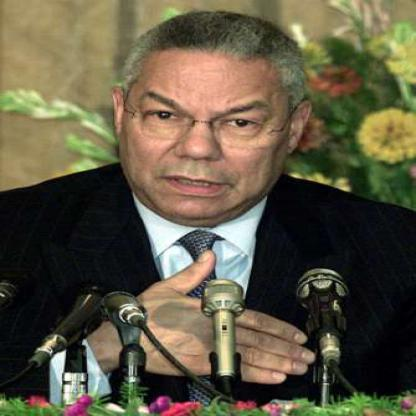face: (120, 23, 297, 221)
